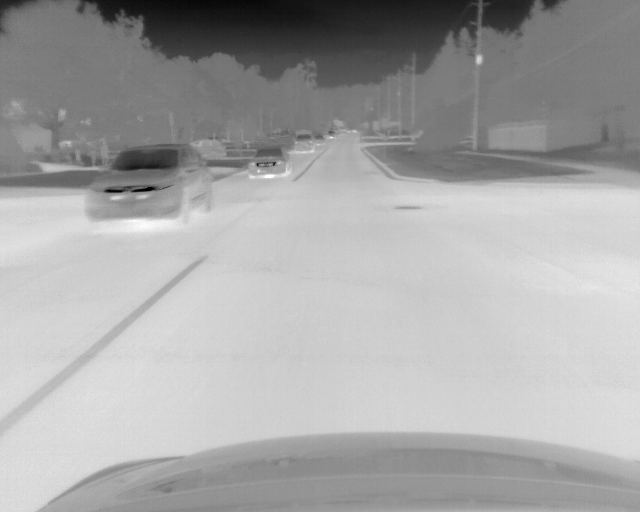car: (84, 142, 216, 223), (248, 146, 292, 178), (192, 141, 225, 163), (294, 131, 315, 153), (313, 133, 326, 147), (326, 129, 336, 139)
